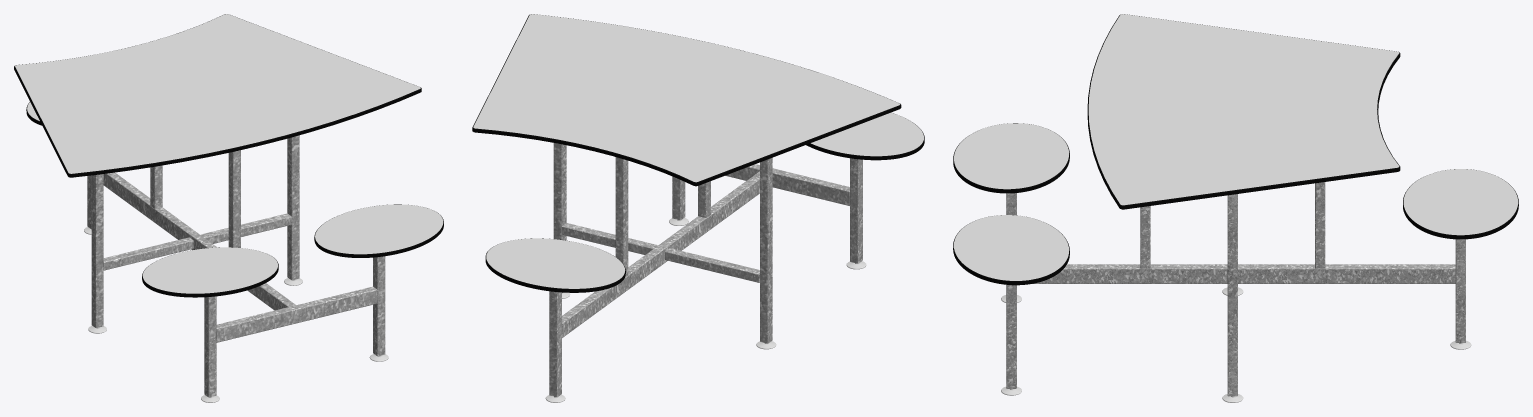
File: fantas-tisch-bogenfoermig.glb
3 views of the same model, side by side, from view 1: azimuth 30°, elevation 25°; view 2: azimuth 150°, elevation 25°; view 3: azimuth 270°, elevation 25° (orthographic). The views are drawn at different scales.
Parts seen in each view (by area): view 1: Tischplatte, Gestell, Sitzplatte, Kante Tischplatte, Kante Sitzplatte, Stellgleiter; view 2: Tischplatte, Gestell, Sitzplatte, Kante Tischplatte, Kante Sitzplatte, Stellgleiter; view 3: Tischplatte, Sitzplatte, Gestell, Kante Tischplatte, Kante Sitzplatte, Stellgleiter.
Part boxes in pixels (x1,y1,x2,y2): Tischplatte: (15,14,420,173); Gestell: (87,135,385,397); Sitzplatte: (27,102,443,293); Kante Tischplatte: (14,14,421,177); Kante Sitzplatte: (26,102,443,297); Stellgleiter: (84,227,388,402); Tischplatte: (473,14,900,182); Gestell: (549,143,862,397); Sitzplatte: (486,112,923,288); Kante Tischplatte: (472,14,901,186); Kante Sitzplatte: (485,113,924,292); Stellgleiter: (545,218,866,402); Tischplatte: (1088,14,1399,205); Sitzplatte: (954,123,1517,280); Gestell: (1006,182,1465,396); Kante Tischplatte: (1087,14,1400,209); Kante Sitzplatte: (953,123,1518,285); Stellgleiter: (1001,287,1471,402).
Bounding box in the file's own units: 1.29 × 0.74 × 1.61.
3 materials, 1 textured.
